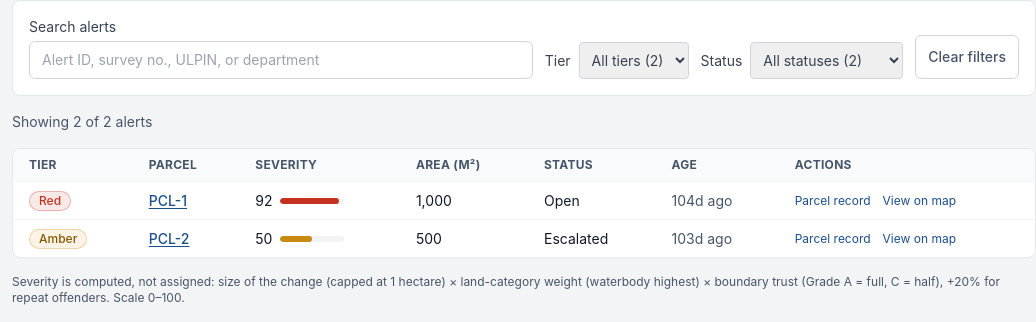
AlertsTable — explainability (WP6) › searches by alert or parcel id and reports the result count
Type "PCL-2" into the search field labelled "Search alerts". click: (281, 60)
box: [29,41,533,79]
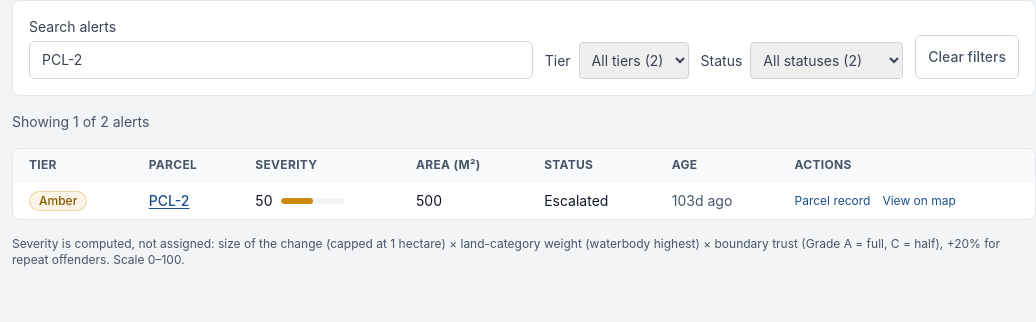
Check: the number of rows with test id "alert-row" is 1, box [13,182,1035,219]
Check: the text "Showing 1 of 2 alerts" is shown, box [12,113,149,130]
